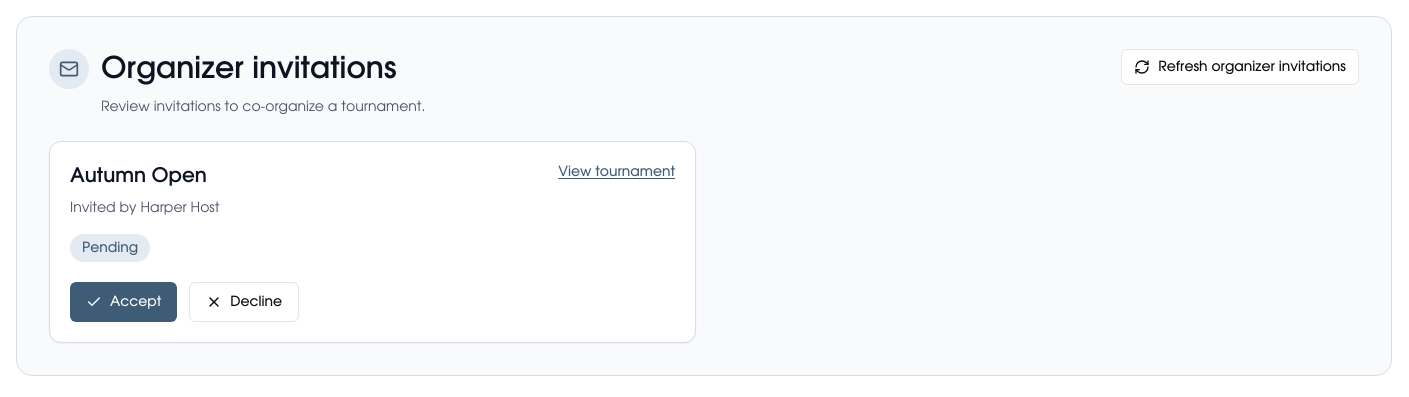
Scenario: OrganizerInvitationInbox › keeps the optimistic handled status when the follow-up refresh fails
Step 1. Click the button with aria-label "Accept invitation to Autumn Open" → click(124, 302), box [70,282,177,322]
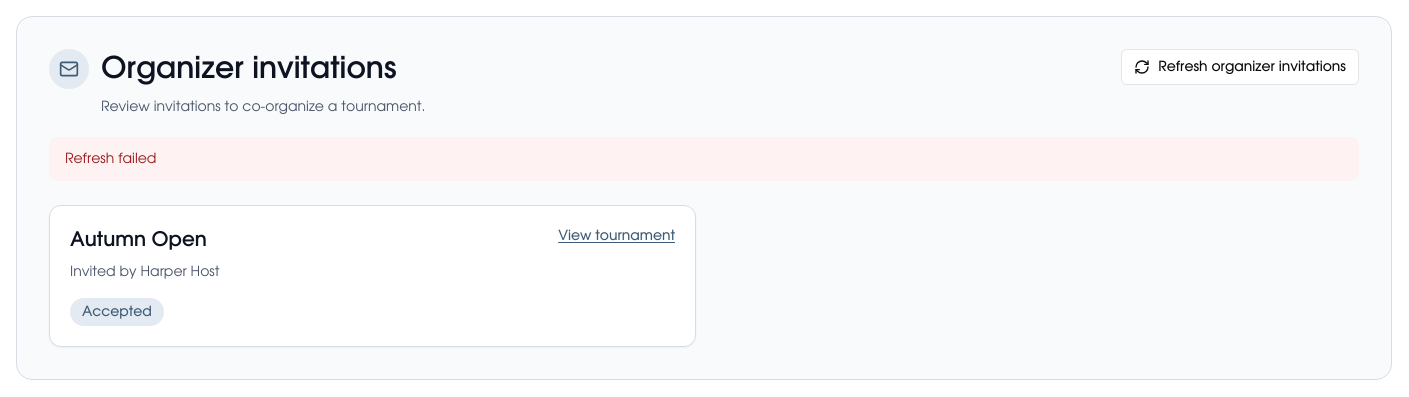
Now the text "Accepted" is shown, box [70,298,164,326]
Now the message "Refresh failed" is shown, box [49,137,1359,181]
